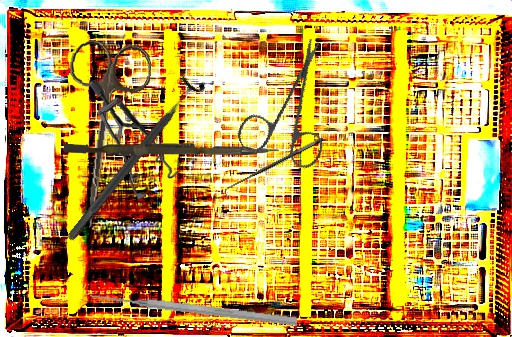Fixation Ring: (56, 66, 210, 250)
Hook Surgical: (220, 135, 328, 201)
Iris Scissors: (213, 36, 366, 190), (53, 38, 154, 233)
Pusher: (88, 289, 299, 328), (63, 140, 280, 158)
Speculum: (86, 80, 181, 201)
